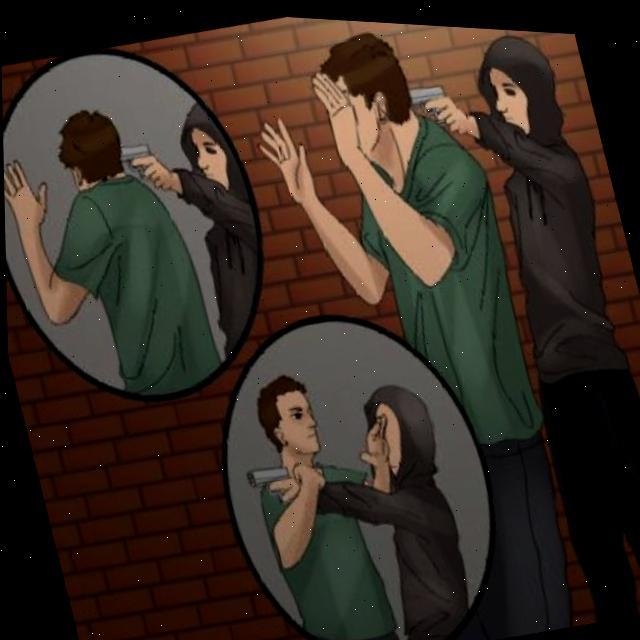gun: (239, 442, 317, 523), (395, 59, 471, 142), (114, 128, 172, 200)
